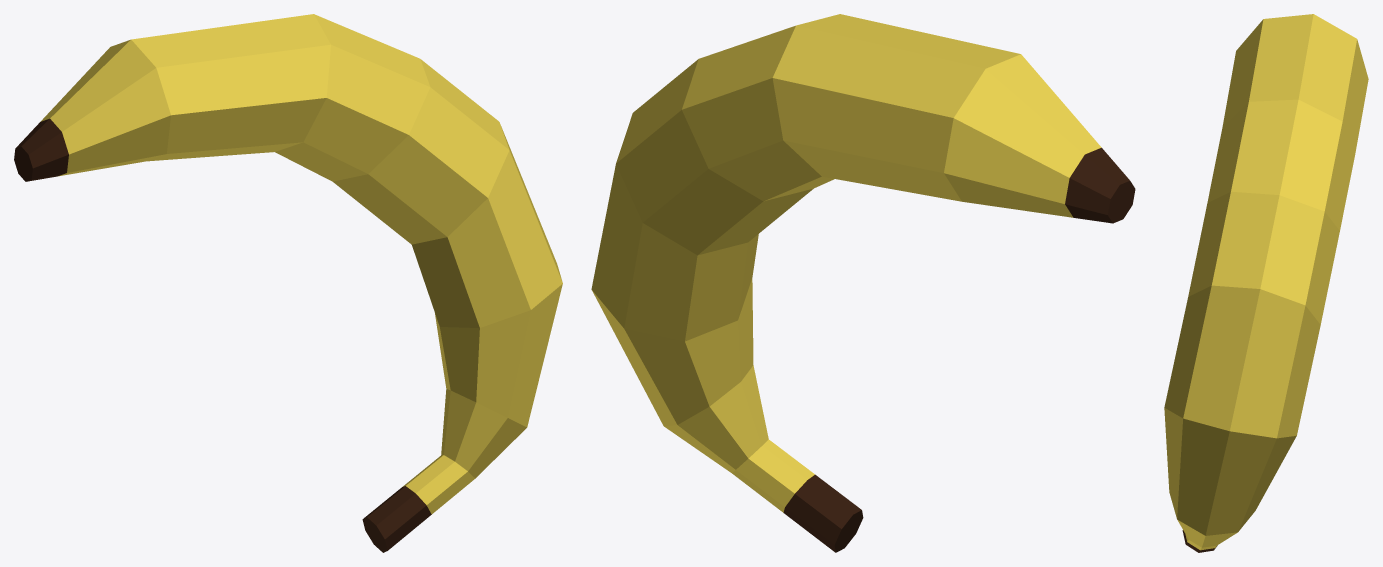
The model's file is Banana.fbx.
The picture shows the model from 3 angles, left to right: view 1: azimuth 30°, elevation 25°; view 2: azimuth 150°, elevation 25°; view 3: azimuth 270°, elevation 25°; orthographic projection. The views are drawn at different scales.
Parts seen in each view (by area): view 1: Cylinder; view 2: Cylinder; view 3: Cylinder.
Boxes of the visible parts, left/top/right/bottom form: Cylinder: left=14, top=14, right=562, bottom=552; Cylinder: left=591, top=14, right=1135, bottom=552; Cylinder: left=1164, top=14, right=1368, bottom=552.
Bounding box in the file's own units: 149 × 147 × 59.68.
